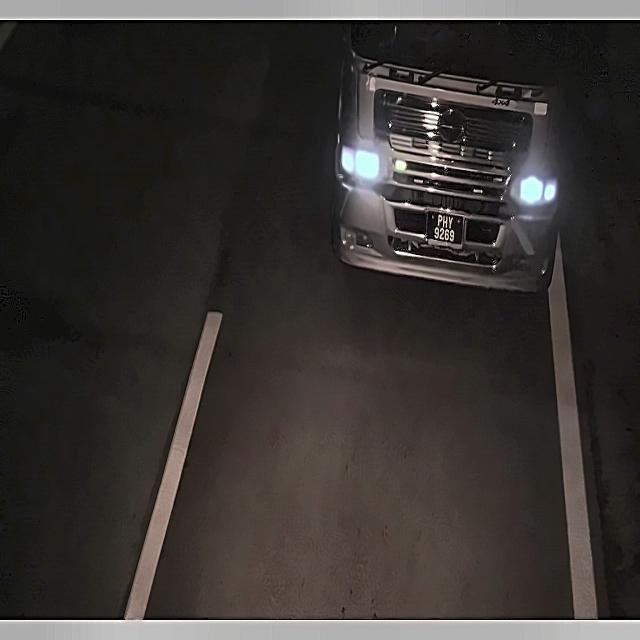car: (420, 201, 472, 254)
